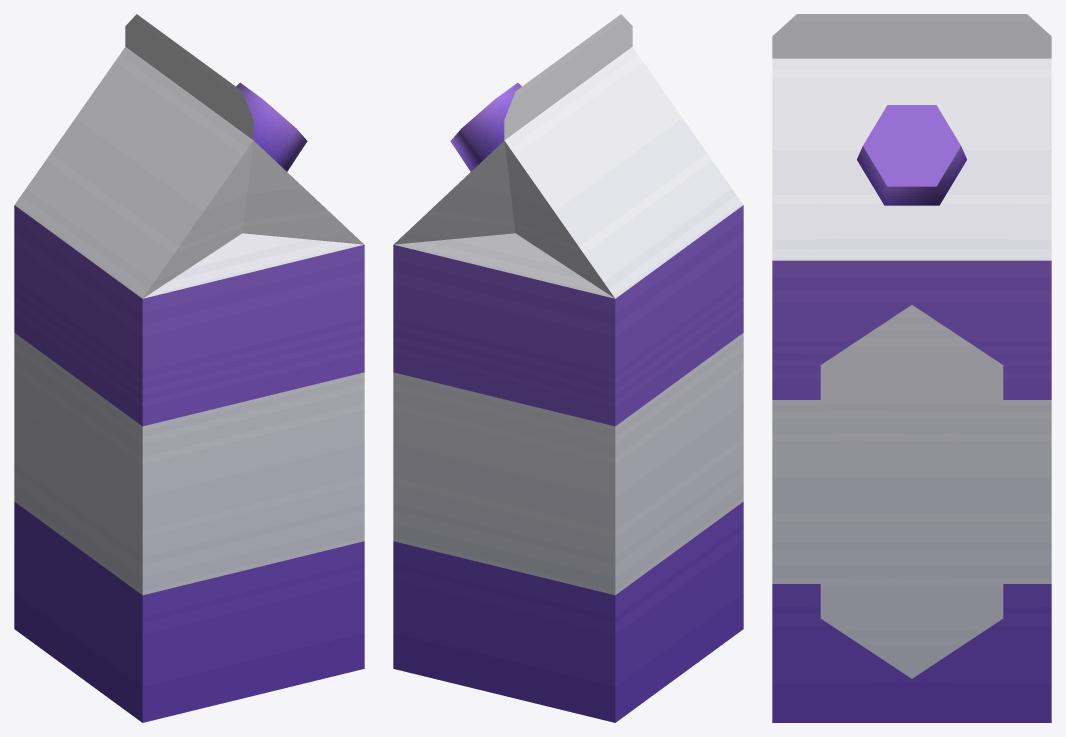
The model's file is kf_carton.glb.
3 views of the same model, side by side, from view 1: azimuth 30°, elevation 25°; view 2: azimuth 150°, elevation 25°; view 3: azimuth 270°, elevation 25° (orthographic). The views are drawn at different scales.
Parts seen in each view (by area): view 1: carton; view 2: carton; view 3: carton.
Part boxes in pixels (x1,y1,x2,y2): carton: [14, 14, 364, 722]; carton: [393, 14, 743, 722]; carton: [772, 14, 1051, 722].
Bounding box in the file's own units: 0.067 × 0.1721 × 0.067.
Materials: 1 (1 with a texture image).
